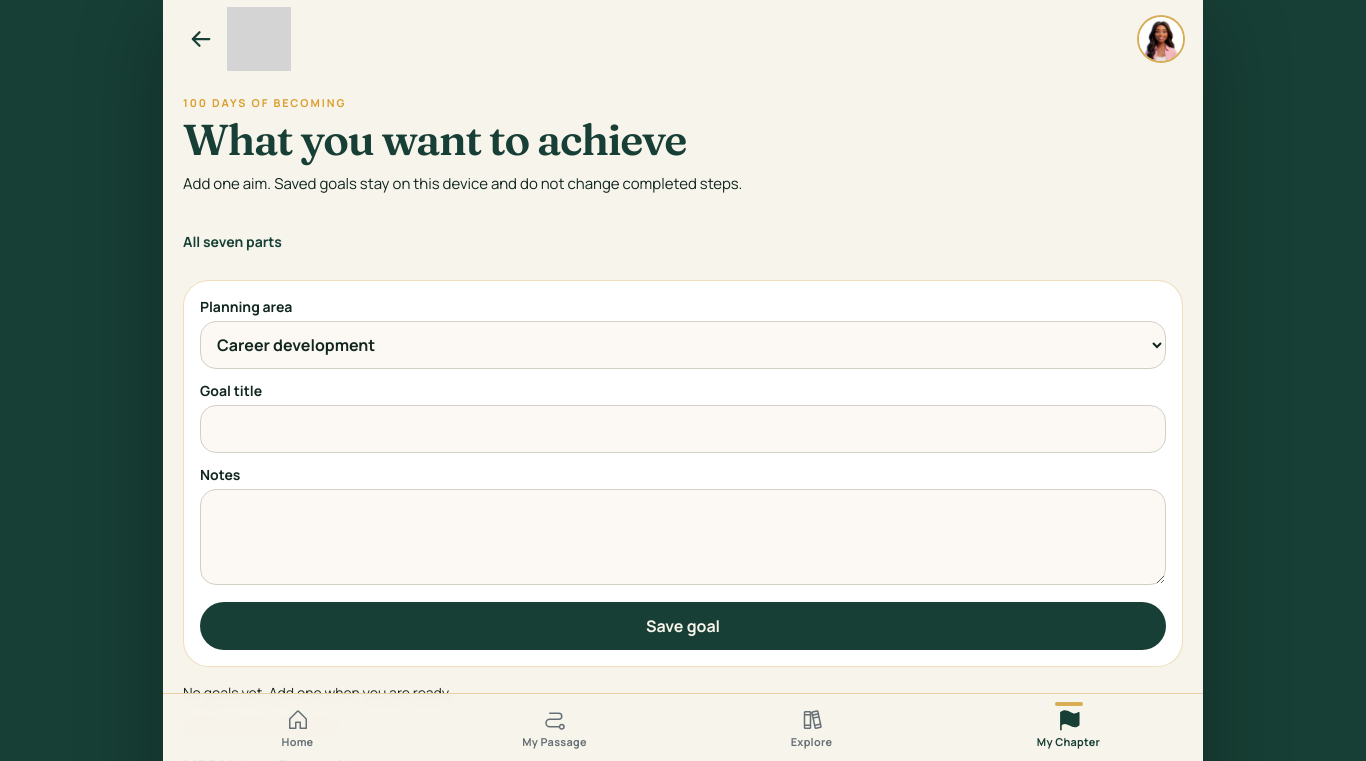
Scenario: completed passage features › requires a goal title, then saves the goal
The image size is (1366, 761).
Click the button "Save goal". click: (683, 626)
box: x1=200 y1=602 x2=1166 y2=650
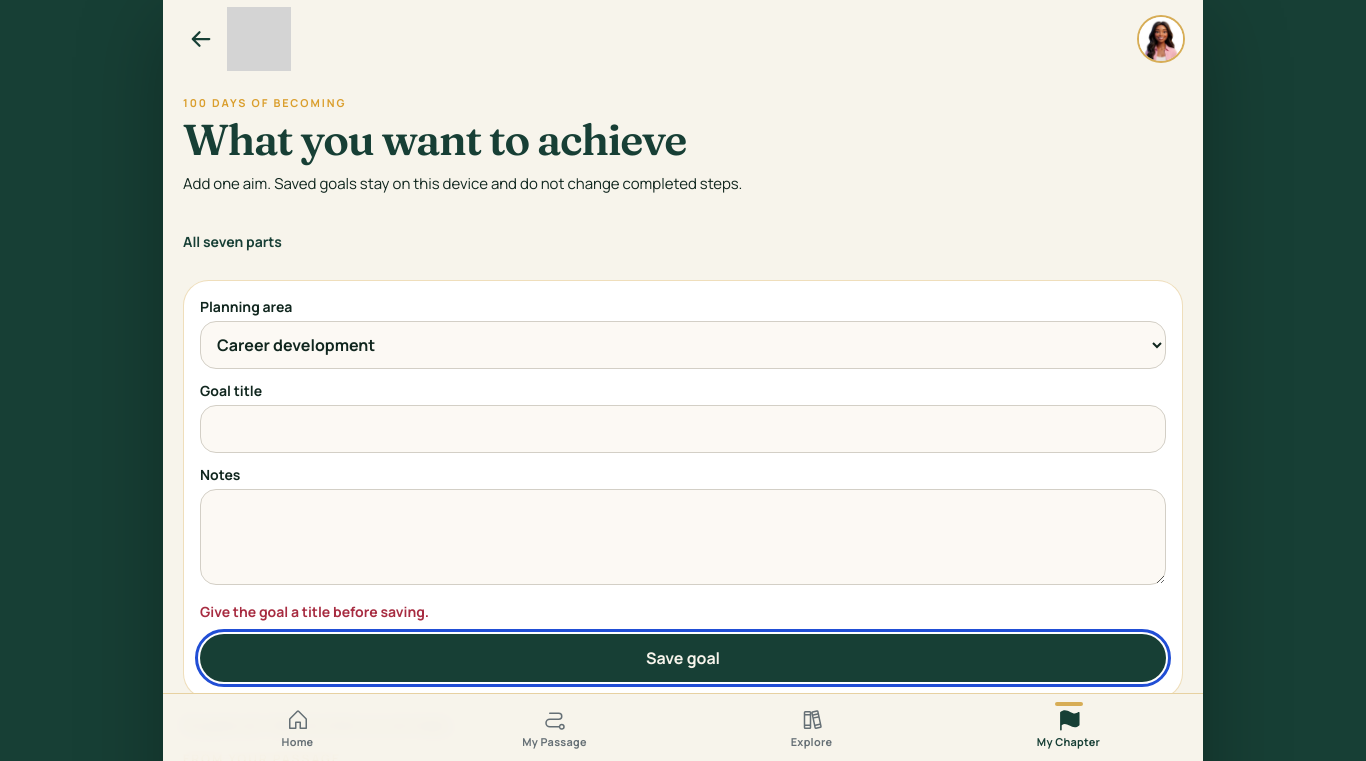
Result: the message shows "Give the goal a title" at x1=200 y1=602 x2=429 y2=621
Type "Draft a first budget" into the field labelled "Goal title". click: (683, 429)
box: x1=200 y1=405 x2=1166 y2=453
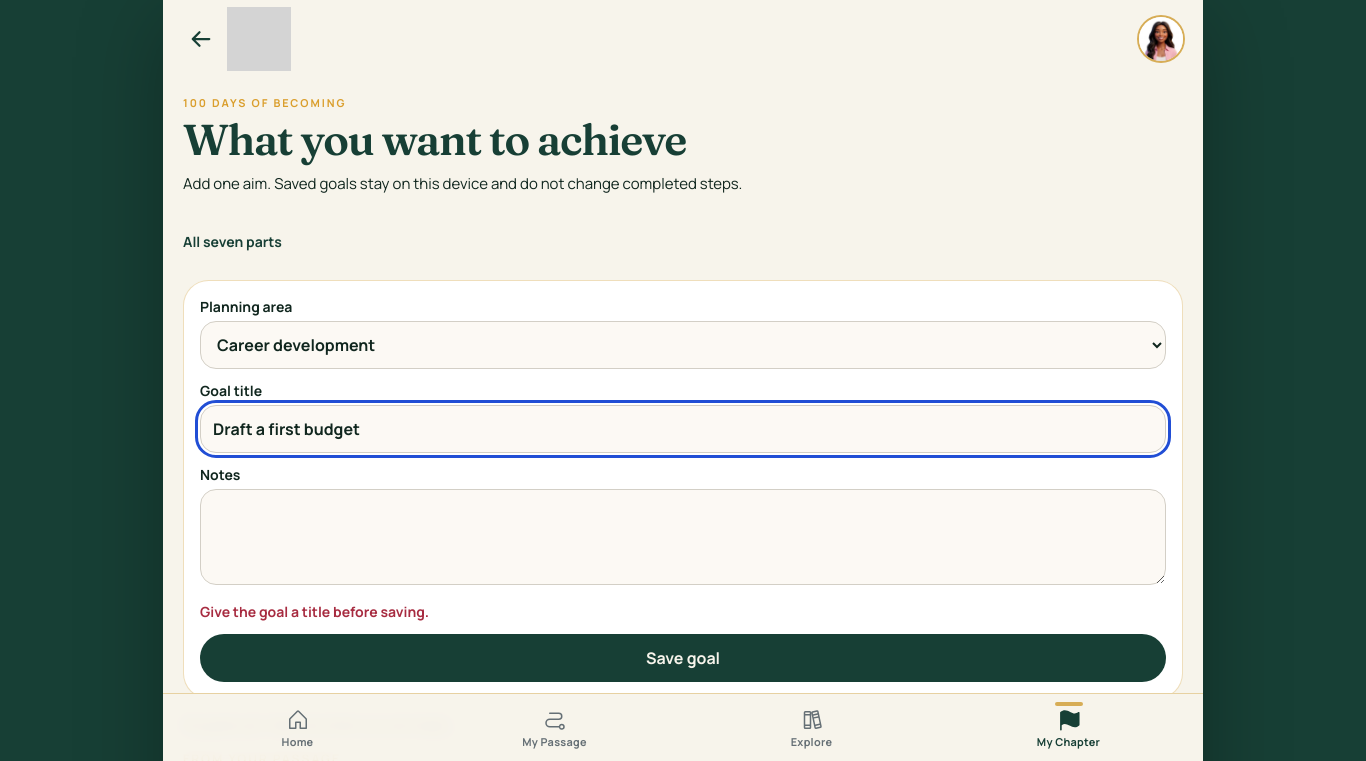
Click the button "Save goal". click: (683, 658)
box: x1=200 y1=634 x2=1166 y2=682
(page scrolled)
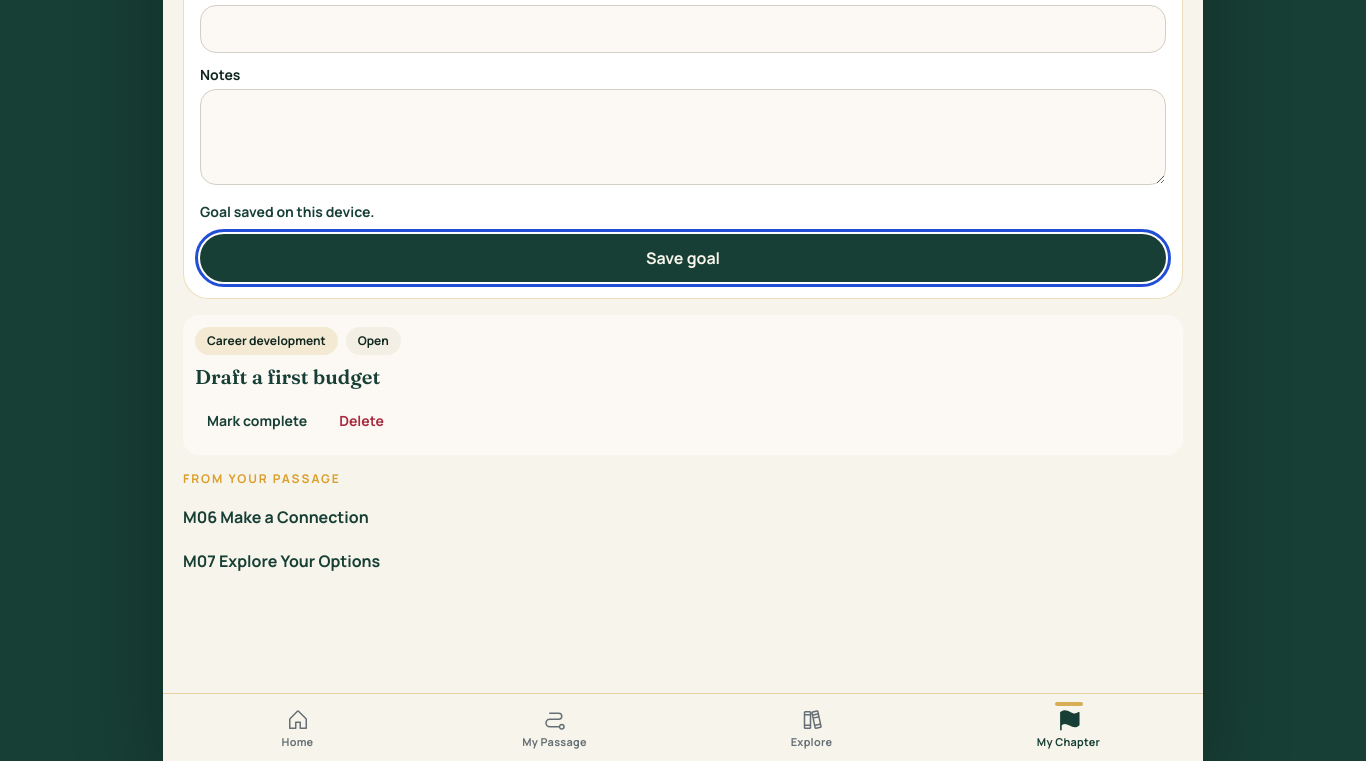
Result: the message shows "Goal saved" at x1=200 y1=202 x2=374 y2=221
Result: the text "Draft a first budget" is shown at x1=195 y1=364 x2=380 y2=389
